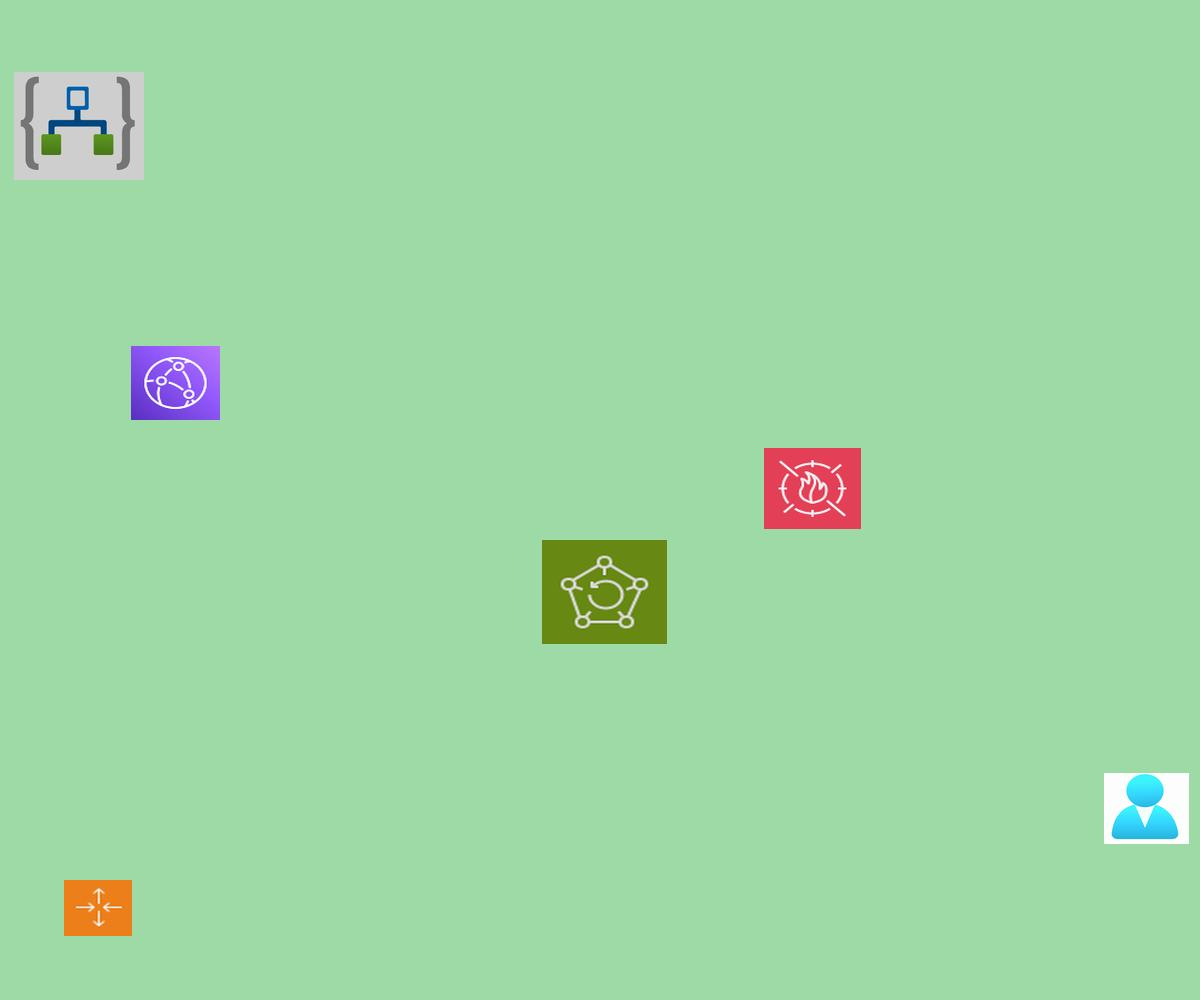AWS-Backup: (542, 540, 667, 644)
AWS-CloudFront: (131, 346, 220, 420)
AWS-Scaling-group: (64, 880, 132, 936)
AWS-WAF: (764, 448, 861, 529)
Azure_integration-204-Logic-Apps: (14, 72, 144, 180)
Azure_users: (1104, 773, 1189, 844)
